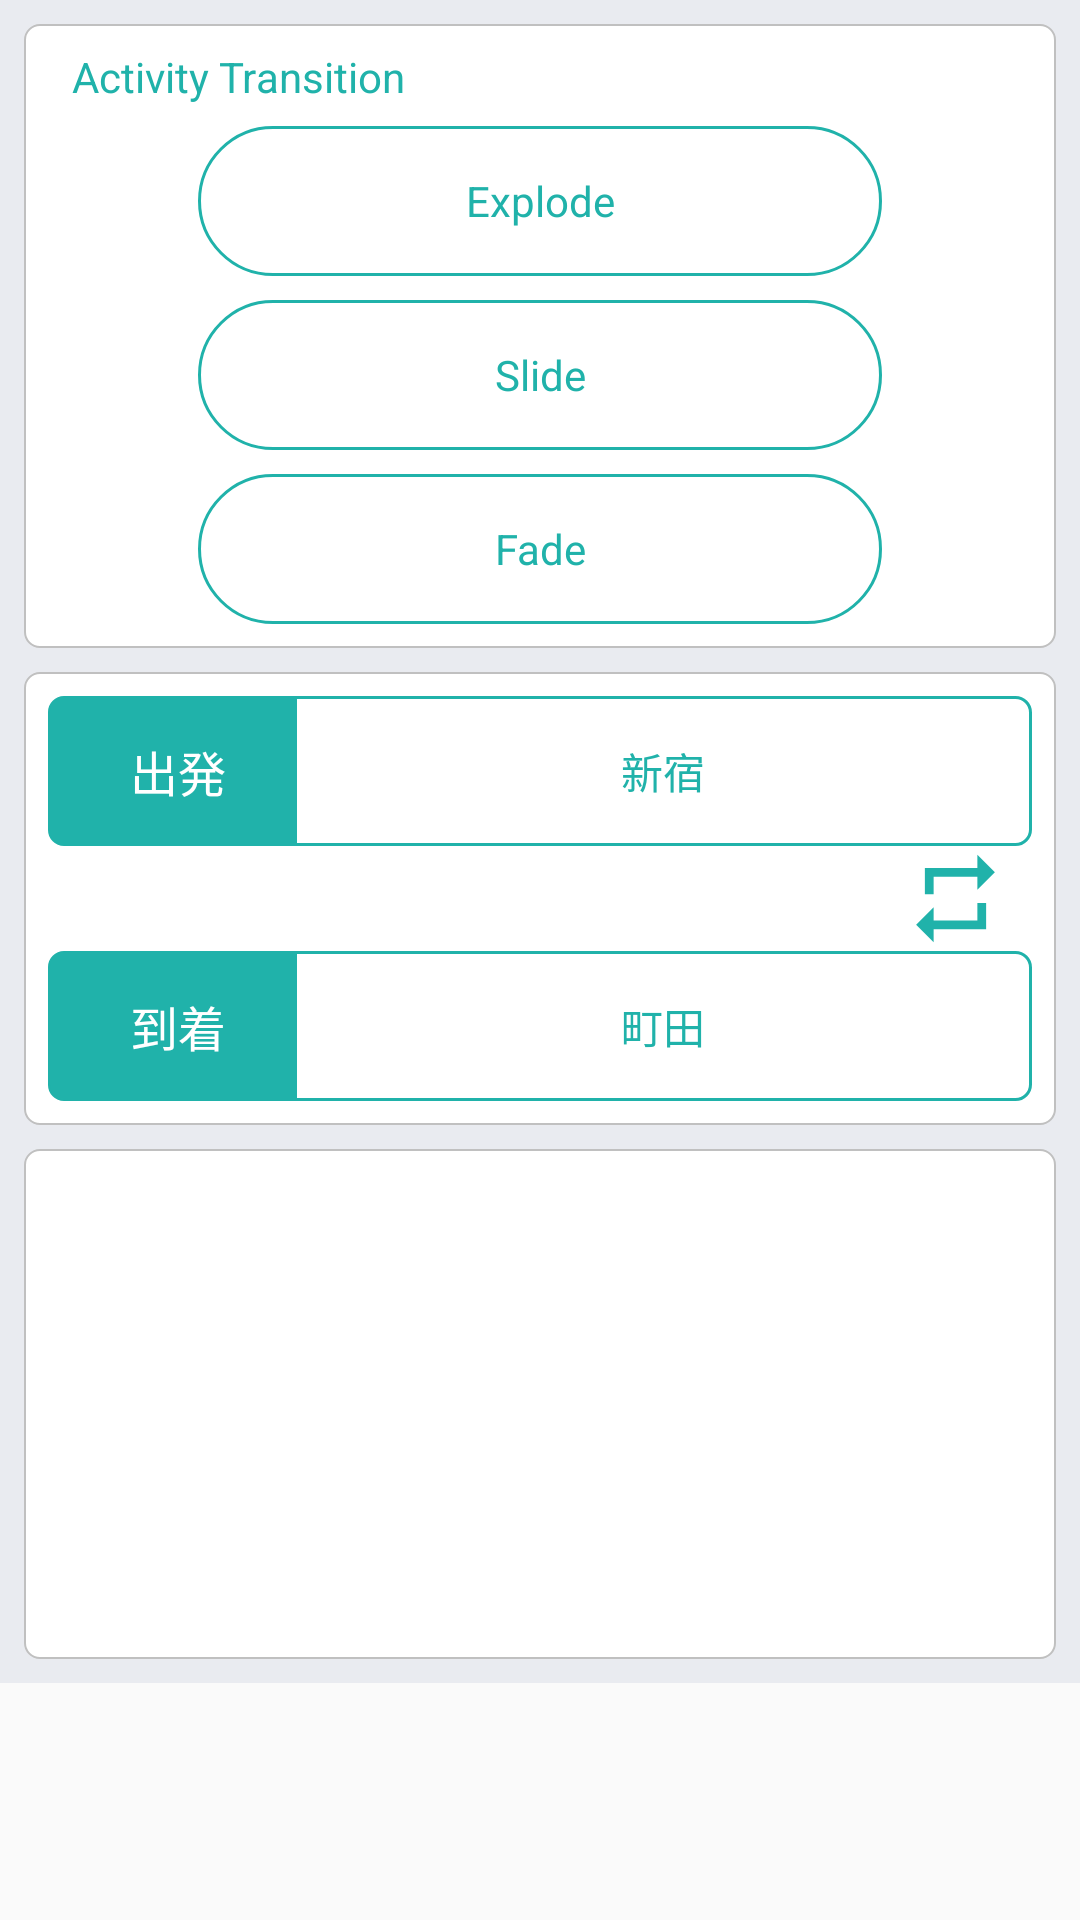

Point at icon controls on the screen. Image size 1080*1920, points as (x,y).
revert: (955,898)
